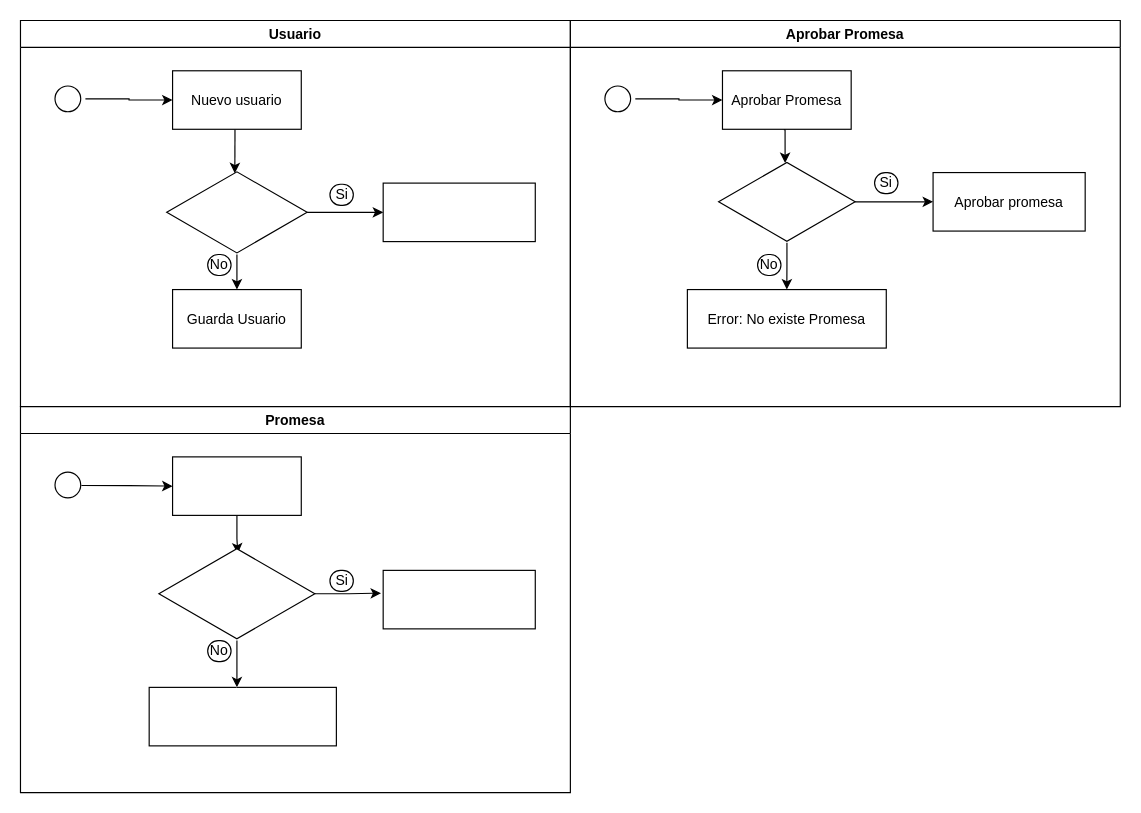
This 1141x813 diagram has some shape labels left out. The shapes that lost their labels are listed below. From the top down, each one's centre as x and y in pixels, then its label:
At point (236, 211): "¿Existe Dirección?".
At point (458, 212): "Error: ya existe Usuario".
At point (786, 201): "¿Existe Promesa?".
At point (236, 485): "Nueva Promesa".
At point (236, 593): "¿Existe usuario?".
At point (458, 599): "Crea promesa".
At point (242, 716): "Error: No existe usuario".
